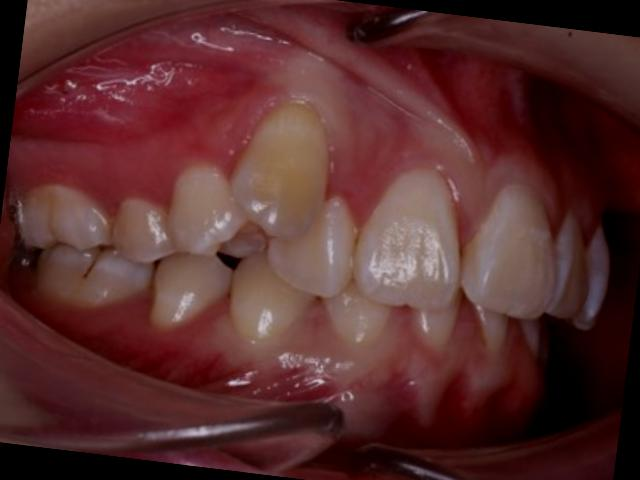canine class III 1/2: (208, 90, 416, 366)
molar class III 1/4: (2, 158, 164, 322)
